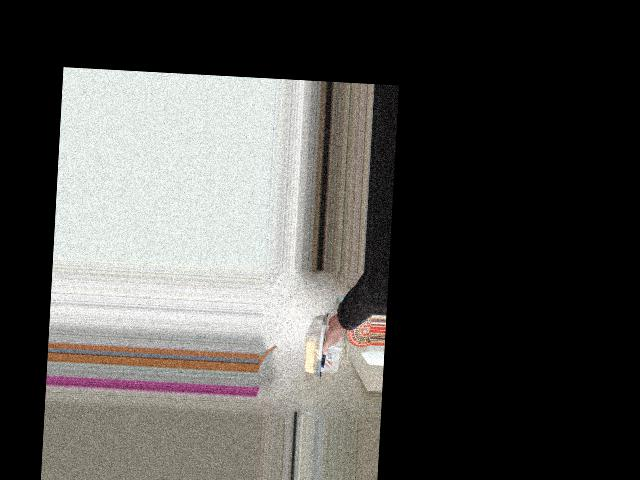cheese: (287, 301, 358, 373)
